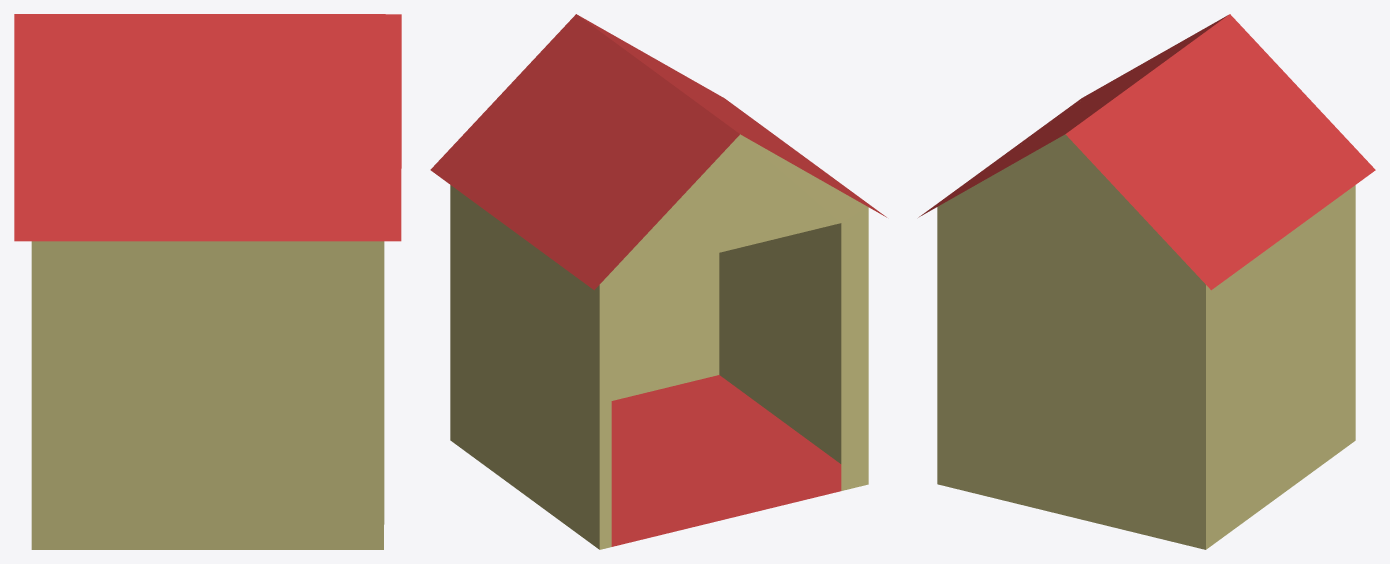
3 views of the same model, side by side, from view 1: azimuth 30°, elevation 25°; view 2: azimuth 150°, elevation 25°; view 3: azimuth 270°, elevation 25° (orthographic). The views are drawn at different scales.
Visible parts, largest first — view 1: group_5, group_3, group_4; view 2: group_5, group_3, group_6; view 3: group_5, group_3.
Part boxes in pixels (x1,y1,x2,y2): group_5: [31, 241, 384, 549]; group_3: [16, 14, 401, 241]; group_4: [14, 14, 401, 241]; group_5: [450, 134, 868, 549]; group_3: [430, 14, 878, 290]; group_6: [611, 375, 841, 546]; group_5: [937, 134, 1355, 549]; group_3: [918, 14, 1375, 290].
Bounding box in the file's own units: 15.45 × 15.59 × 14.57.
